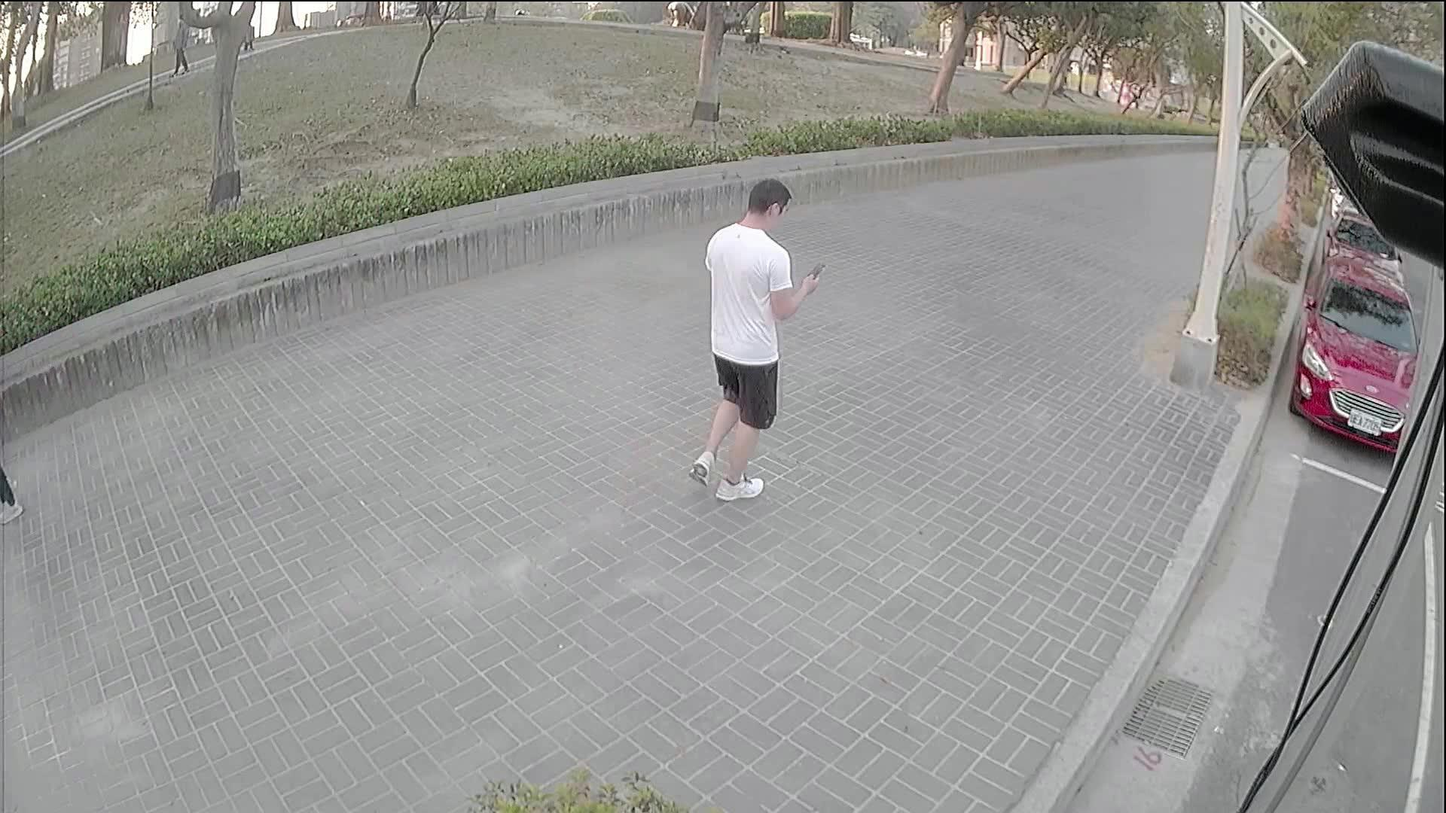person: (687, 181, 818, 498)
